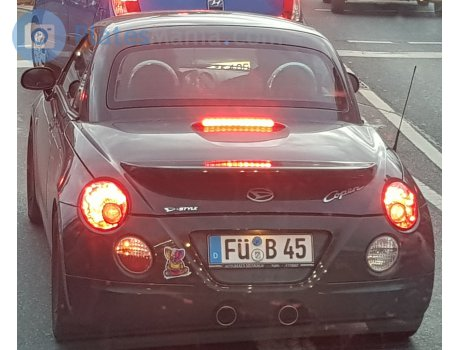License Plates: (220, 232, 312, 261)
